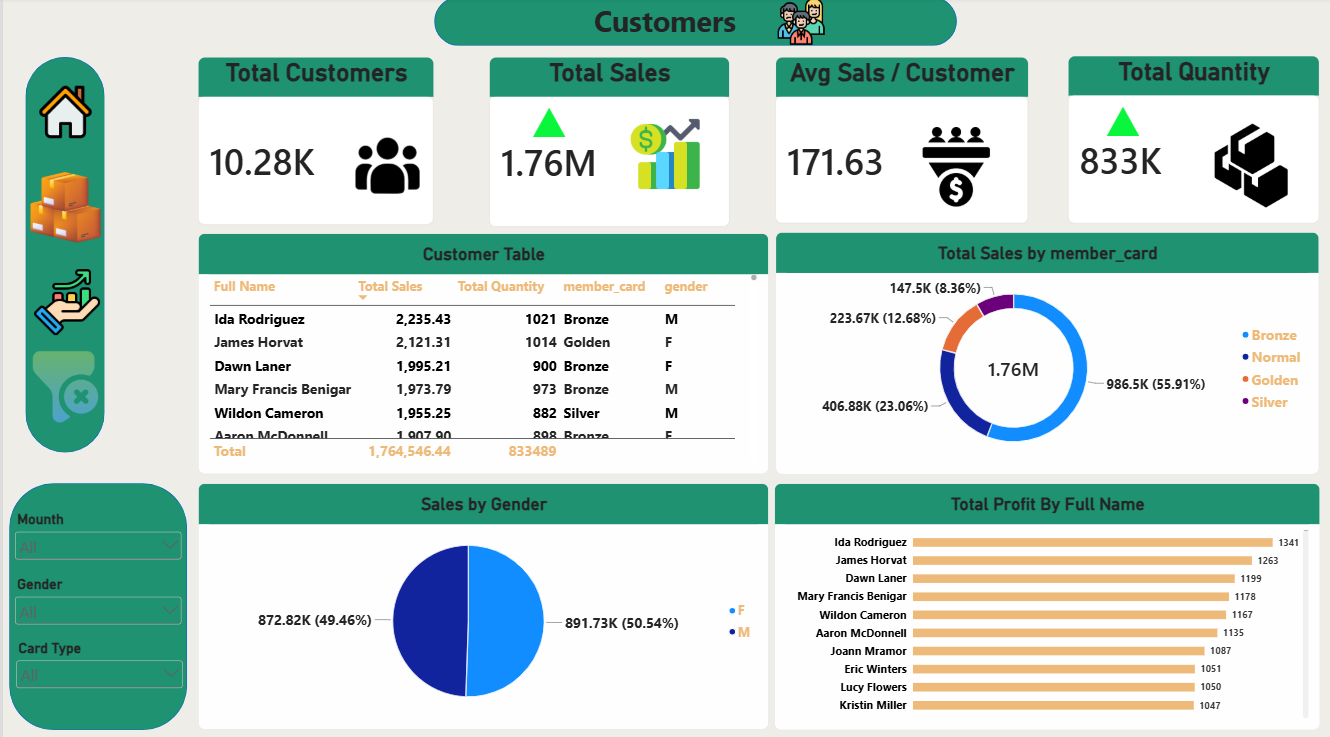

The dashboard page shown, as its layout file describes it:
{"tool":"powerbi","page":{"name":"Customers","canvas":[1920,1080],"ordinal":2},"visuals":[{"type":"shape","box":[624.3,0,756.4,70.6],"z":0},{"type":"shape","box":[9.3,703.7,257.4,357.4],"z":1000},{"type":"cardVisual","title":"Total Sales","fields":{"Data":["_Table.Total Sales"]},"box":[703.8,86.8,348.1,246.3],"z":2000},{"type":"cardVisual","title":"Total Customers","fields":{"Data":["_Table.Total Customers"]},"box":[283,86.8,341.8,243.6],"z":3000},{"type":"cardVisual","title":"Avg Sals / Customer","fields":{"Data":["_table.Average Sales per Customer"]},"box":[1118.9,86.8,366,241.5],"z":4000},{"type":"image","box":[23.6,514.5,123.6,103.6],"z":5000},{"type":"pieChart","title":"Sales by Gender","fields":{"Category":["Customers.gender"],"Y":["_table.Total Sales"]},"box":[283,703.8,826.4,356.6],"z":6000},{"type":"tableEx","title":"Customer Table","fields":{"Values":["Customers.Full Name","_table.Total Sales","_table.Total Quantity","Customers.member_card","Customers.gender"]},"box":[283,341.5,826.4,349.1],"z":7000},{"type":"clusteredBarChart","title":"Total Profit By Full Name","fields":{"Category":["Customers.Full Name"],"Y":["_table.Total Gross Profit"]},"box":[1117,703.8,790.7,357.4],"z":8000},{"type":"shape","box":[32.7,87.3,114.5,572.7],"z":9000},{"type":"image","box":[1107.4,0,96.3,70.4],"z":10000},{"type":"image","box":[51.9,87,76,159.3],"z":11000},{"type":"image","box":[900,152.8,118.2,150.9],"z":12000},{"type":"actionButton","box":[725.9,0,465.1,63.3],"z":13000},{"type":"image","box":[0,388.7,185.2,105.6],"z":14000},{"type":"image","box":[509.4,132.1,92.6,224.1],"z":15000},{"type":"image","box":[1305.6,188.9,150,114.8],"z":16000},{"type":"donutChart","fields":{"Category":["Customers.member_card"],"Y":["_table.Total Sales"]},"box":[1118.9,339.6,787,351],"z":17000},{"type":"cardVisual","title":"Total Quantity","fields":{"Data":["_table.Total Quantity"]},"box":[1541.5,84.9,364.2,243.4],"z":18000},{"type":"image","box":[1743.4,117,129.1,252.7],"z":19000},{"type":"slicer","fields":{"Values":["Calendar (2).Mounth Name"]},"box":[13.2,743.4,250.9,92.7],"z":20000},{"type":"slicer","fields":{"Values":["Customers.gender"]},"box":[13.2,837.7,250.9,92.7],"z":21000},{"type":"slicer","fields":{"Values":["Customers.member_card"]},"box":[15.1,930.2,250.9,92.7],"z":22000},{"type":"image","box":[39.6,203.8,101.9,200],"z":23000},{"type":"image","box":[24.5,415.1,124.5,300],"z":25000},{"type":"cardVisual","fields":{"Data":["_table.Arrow"]},"box":[749.1,64.2,128.3,231],"z":25001},{"type":"cardVisual","fields":{"Data":["_table.Arrow"]},"box":[1579.2,62.3,128.3,231],"z":25002}]}

Visuals, with their boxes in screenshot pixels (x1, y1, x2, y2), scaled from the page's 1920x1080 canvas onto the 1330x737 screenshot:
shape: <bbox>432, 0, 956, 48</bbox>
shape: <bbox>6, 480, 185, 724</bbox>
"Total Sales" cardVisual: <bbox>488, 59, 729, 227</bbox>
"Total Customers" cardVisual: <bbox>196, 59, 433, 225</bbox>
"Avg Sals / Customer" cardVisual: <bbox>775, 59, 1029, 224</bbox>
image: <bbox>16, 351, 102, 422</bbox>
"Sales by Gender" pieChart: <bbox>196, 480, 768, 724</bbox>
"Customer Table" tableEx: <bbox>196, 233, 768, 471</bbox>
"Total Profit By Full Name" clusteredBarChart: <bbox>774, 480, 1321, 724</bbox>
shape: <bbox>23, 60, 102, 450</bbox>
image: <bbox>767, 0, 834, 48</bbox>
image: <bbox>36, 59, 89, 168</bbox>
image: <bbox>623, 104, 705, 207</bbox>
actionButton: <bbox>503, 0, 825, 43</bbox>
image: <bbox>0, 265, 128, 337</bbox>
image: <bbox>353, 90, 417, 243</bbox>
image: <bbox>904, 129, 1008, 207</bbox>
donutChart - Customers.member_card x _table.Total Sales: <bbox>775, 232, 1320, 471</bbox>
"Total Quantity" cardVisual: <bbox>1068, 58, 1320, 224</bbox>
image: <bbox>1208, 80, 1297, 252</bbox>
slicer - Calendar (2).Mounth Name: <bbox>9, 507, 183, 571</bbox>
slicer - Customers.gender: <bbox>9, 572, 183, 635</bbox>
slicer - Customers.member_card: <bbox>10, 635, 184, 698</bbox>
image: <bbox>27, 139, 98, 276</bbox>
image: <bbox>17, 283, 103, 488</bbox>
cardVisual - _table.Arrow: <bbox>519, 44, 608, 201</bbox>
cardVisual - _table.Arrow: <bbox>1094, 43, 1183, 200</bbox>
